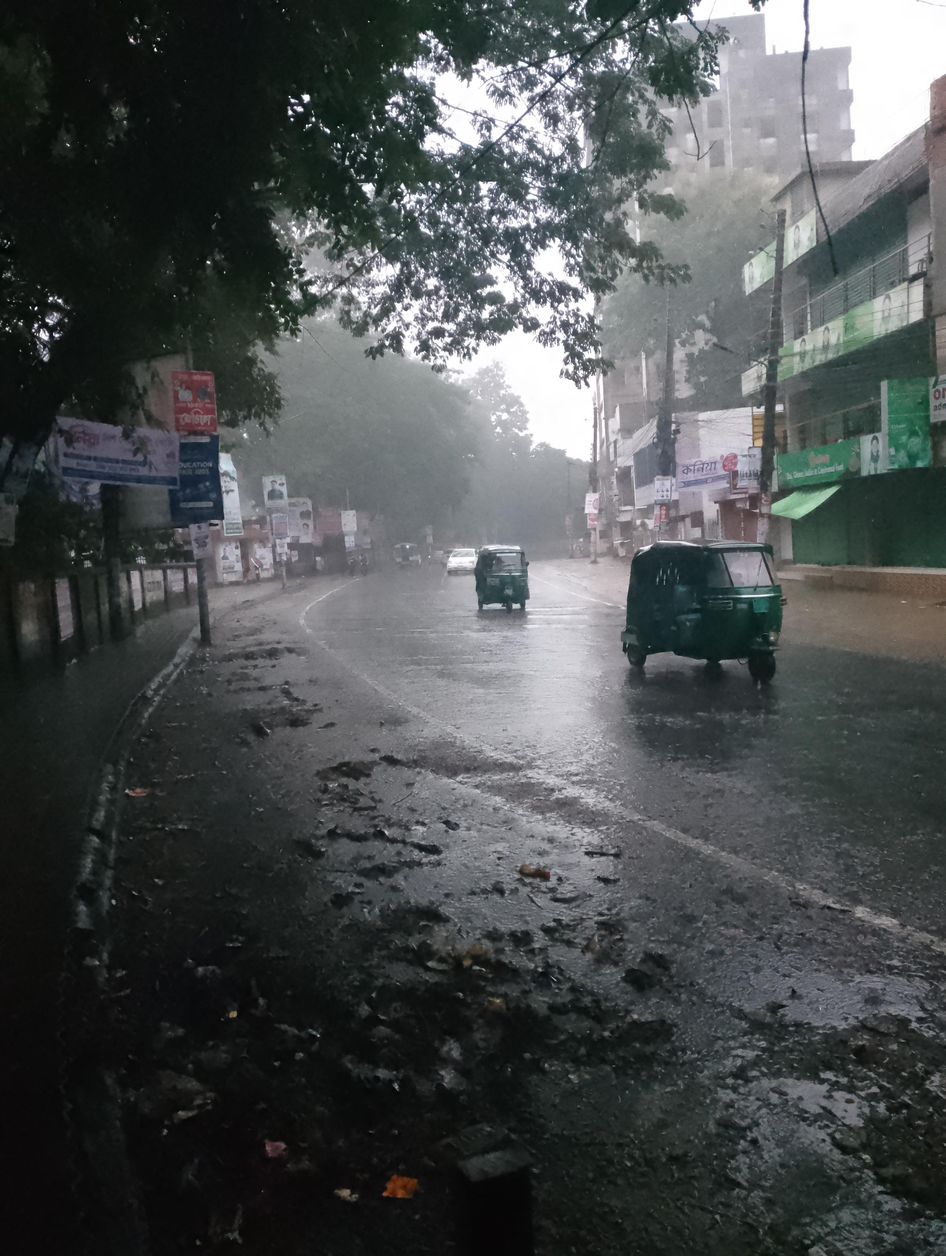Car: (431, 534, 479, 588)
